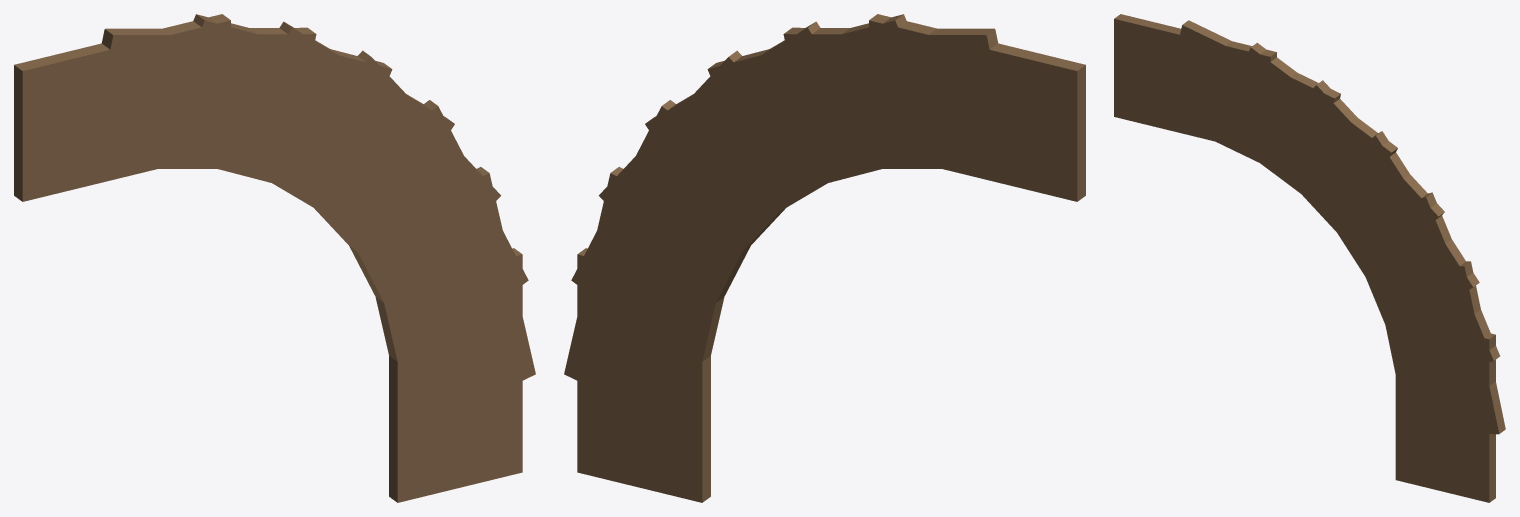
File: path_curve_90.glb
3 views of the same model, side by side, from view 1: azimuth 30°, elevation 25°; view 2: azimuth 150°, elevation 25°; view 3: azimuth 330°, elevation 25° (orthographic). The views are drawn at different scales.
Visible parts, largest first — view 1: p0, p6, p3, p1, p7, p4, p5, p2; view 2: p0, p3, p1, p5, p6, p7, p2, p4; view 3: p7, p3, p1, p0, p4, p5, p6, p2.
Part boxes in pixels (left/top/right/bottom): p0: left=389, top=248, right=522, bottom=502; p6: left=85, top=27, right=316, bottom=169; p3: left=274, top=50, right=500, bottom=297; p1: left=368, top=167, right=535, bottom=432; p7: left=14, top=14, right=230, bottom=201; p4: left=214, top=21, right=454, bottom=244; p5: left=150, top=14, right=392, bottom=182; p2: left=326, top=100, right=528, bottom=321; p0: left=577, top=248, right=710, bottom=502; p3: left=599, top=50, right=825, bottom=300; p1: left=564, top=167, right=724, bottom=432; p5: left=707, top=14, right=948, bottom=189; p6: left=783, top=27, right=1014, bottom=169; p7: left=869, top=14, right=1085, bottom=201; p2: left=571, top=100, right=750, bottom=317; p4: left=645, top=21, right=884, bottom=210; p7: left=1114, top=14, right=1276, bottom=154; p3: left=1302, top=131, right=1479, bottom=330; p1: left=1373, top=261, right=1505, bottom=434; p0: left=1395, top=330, right=1495, bottom=502; p4: left=1270, top=80, right=1444, bottom=273; p5: left=1224, top=42, right=1397, bottom=230; p6: left=1161, top=20, right=1340, bottom=165; p2: left=1366, top=192, right=1500, bottom=366.
Bounding box in the file's own units: 3.08 × 3.08 × 0.09.
